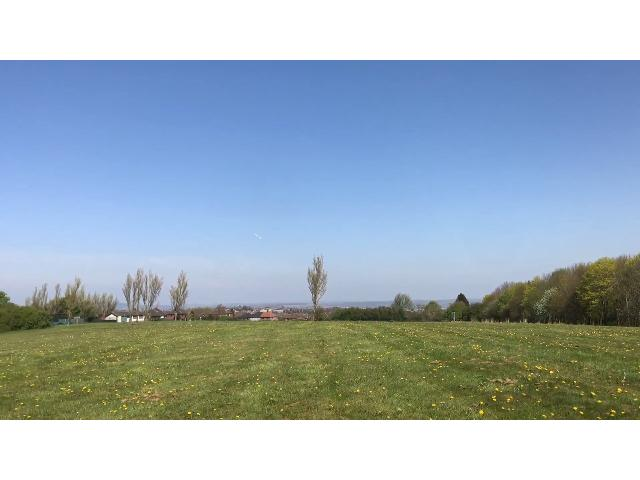Anti-Drone: (249, 231, 269, 241)
